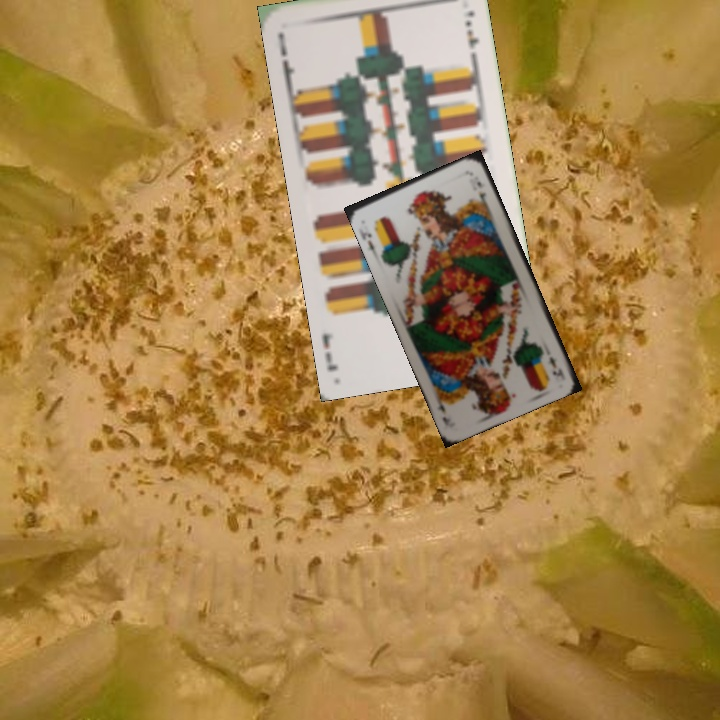E7: (274, 28, 298, 87)
EK: (356, 224, 379, 255), (544, 353, 566, 380)
